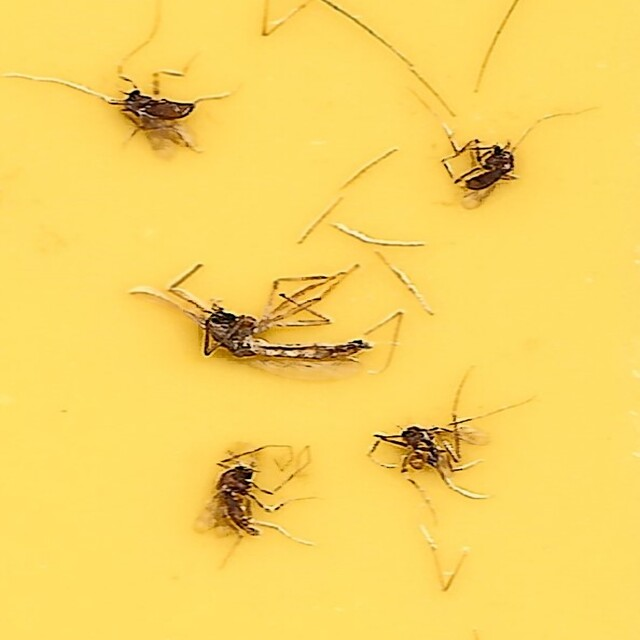Nematocera: (151, 260, 382, 373), (191, 435, 319, 558), (379, 418, 500, 489), (108, 82, 213, 145), (446, 134, 532, 203)
